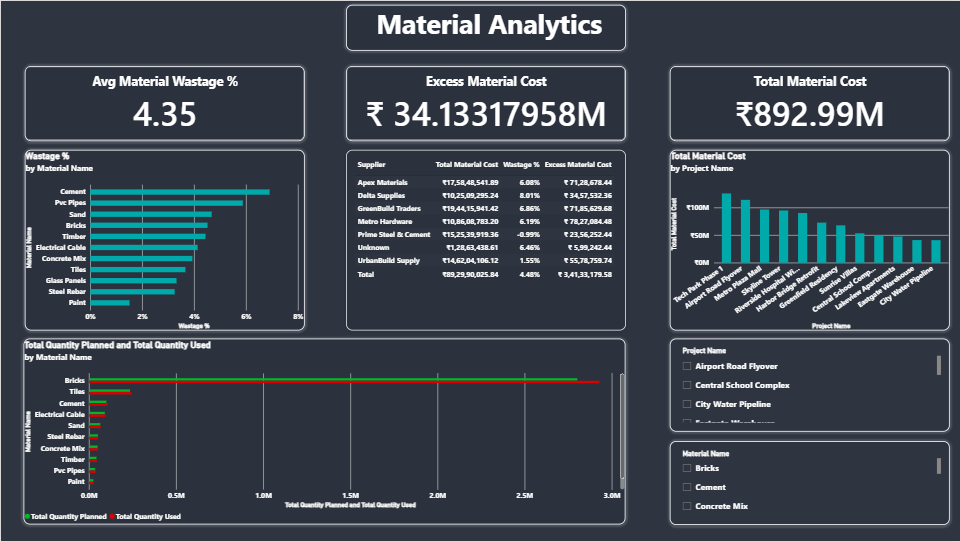

What the dashboard file says about the page in this screenshot:
{"tool":"powerbi","page":{"name":"Material Analytics","canvas":[1920,1080],"ordinal":3},"visuals":[{"type":"cardVisual","fields":{"Data":["_Measures.Total Material Cost"]},"box":[1337.5,130,560,150],"z":0},{"type":"cardVisual","fields":{"Data":["_Measures.Excess Material Cost"]},"box":[690,130,560,150],"z":1000},{"type":"cardVisual","fields":{"Data":["_Measures.Avg Material Wastage %"]},"box":[46.7,130,560,150],"z":2000},{"type":"clusteredBarChart","fields":{"Category":["Materials.Material Name"],"Y":["_Measures.Total Quantity Planned","_Measures.Total Quantity Used"]},"box":[46,676,1204,372],"z":3000},{"type":"barChart","fields":{"Y":["_Measures.Wastage %"],"Category":["Materials.Material Name"]},"box":[46.2,296.2,560,361.2],"z":4000},{"type":"clusteredColumnChart","fields":{"Y":["_Measures.Total Material Cost"],"Category":["Projects.Project Name"]},"box":[1337.5,296.2,560,361.2],"z":5000},{"type":"tableEx","fields":{"Values":["Materials.Supplier","_Measures.Total Material Cost","_Measures.Wastage %","_Measures.Excess Material Cost"]},"box":[690,296.2,560,361.2],"z":6000},{"type":"slicer","fields":{"Values":["Materials.Material Name"]},"box":[1338,880,560,168],"z":7000},{"type":"slicer","fields":{"Values":["Projects.Project Name"]},"box":[1338,676,560,186],"z":8000},{"type":"textbox","box":[690,8,560,92],"z":8001}]}

Visuals, with their boxes in screenshot pixels (x1, y1, x2, y2), scaled from the page's 1920x1080 canvas onto the 960x542 screenshot:
cardVisual - _Measures.Total Material Cost: [669,65,949,141]
cardVisual - _Measures.Excess Material Cost: [345,65,625,141]
cardVisual - _Measures.Avg Material Wastage %: [23,65,303,141]
clusteredBarChart - Materials.Material Name x _Measures.Total Quantity Planned: [23,339,625,526]
barChart - _Measures.Wastage % x Materials.Material Name: [23,149,303,330]
clusteredColumnChart - _Measures.Total Material Cost x Projects.Project Name: [669,149,949,330]
tableEx - Materials.Supplier x _Measures.Total Material Cost: [345,149,625,330]
slicer - Materials.Material Name: [669,442,949,526]
slicer - Projects.Project Name: [669,339,949,433]
textbox: [345,4,625,50]
